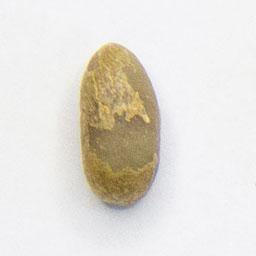longberry: (74, 35, 166, 212)
